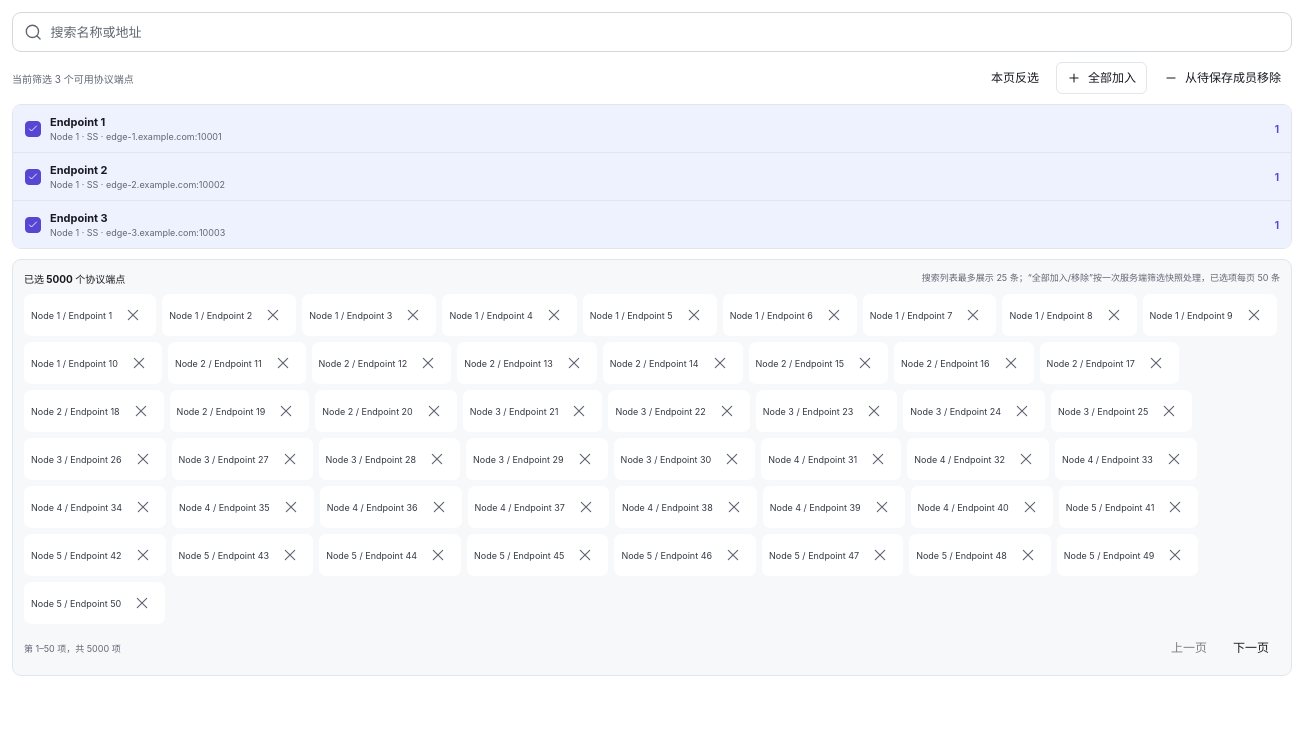
Test: EndpointMultiLookup › renders and hydrates only one bounded selected-member page at a time
Click the button "下一页" at {"x": 1251, "y": 648}, box [1222,632,1280,664]
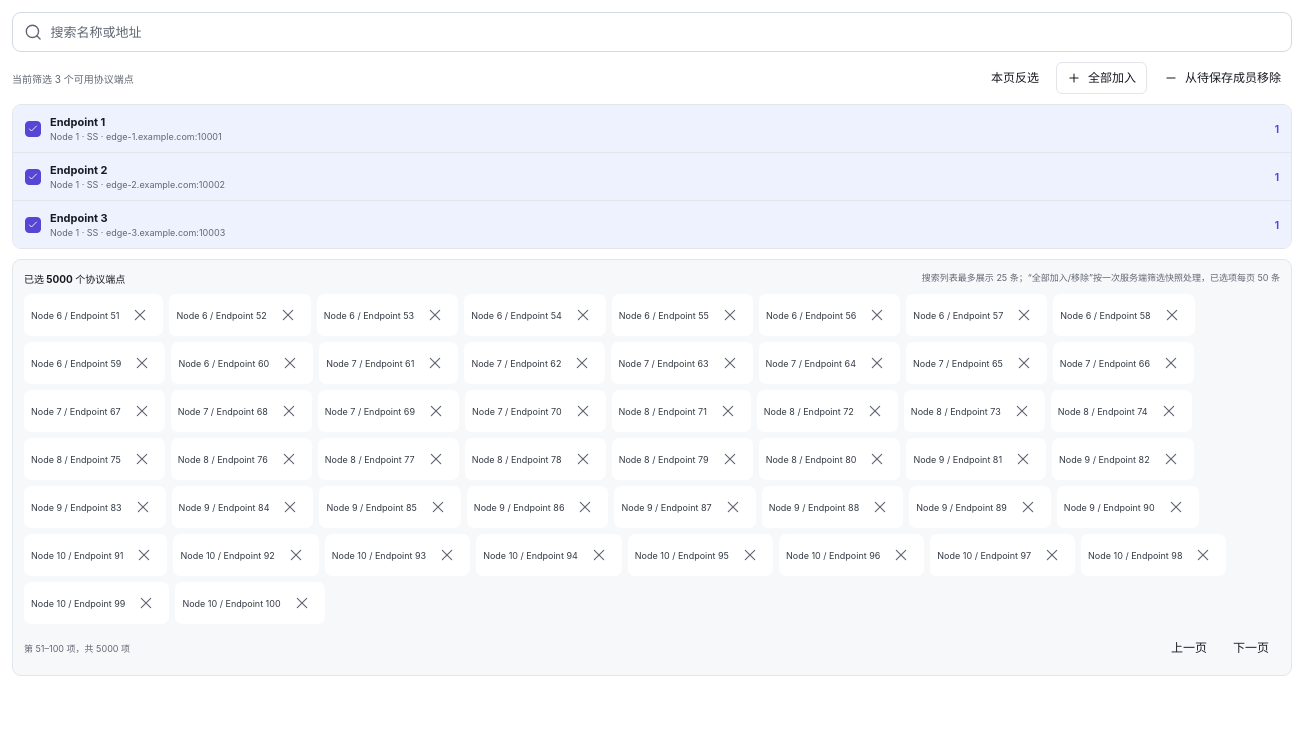
Result: the text "第 51–100 项，共 5000 项" is shown at [24,642,130,654]
Result: the text "Endpoint 51" is shown at [31,310,120,320]
